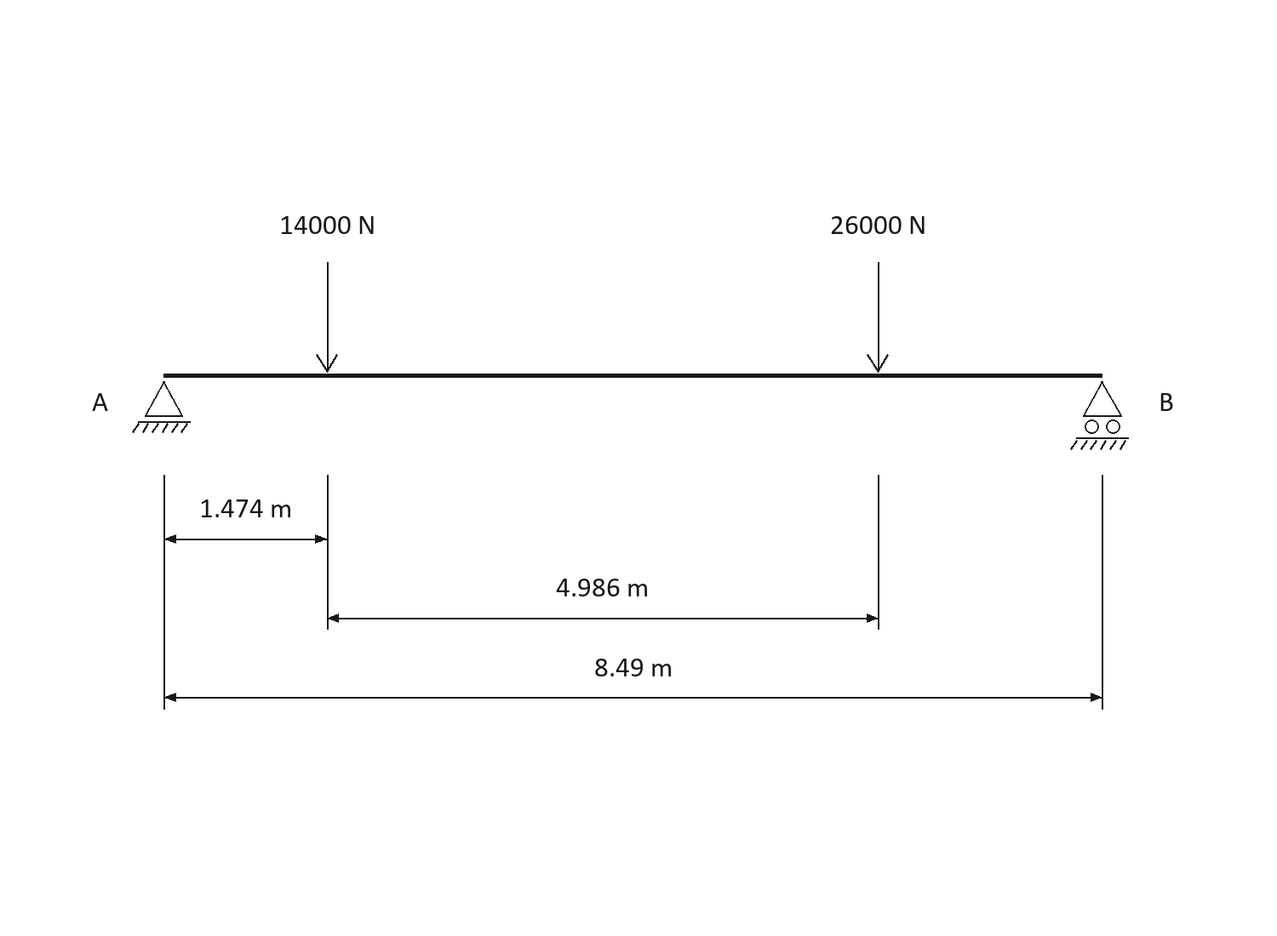pin_support: (132, 381, 191, 433)
point_load: (316, 262, 338, 373), (867, 262, 889, 373)
roller_support: (1070, 381, 1129, 450)
